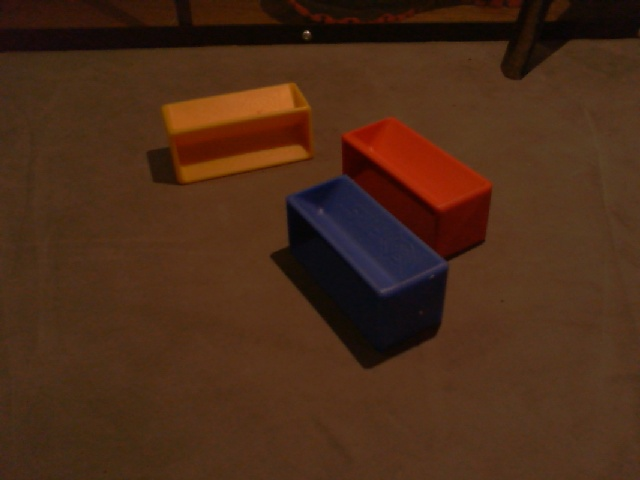BlueSample: (284, 177, 447, 355)
RedSample: (336, 112, 493, 265)
YellowSample: (162, 79, 315, 189)
